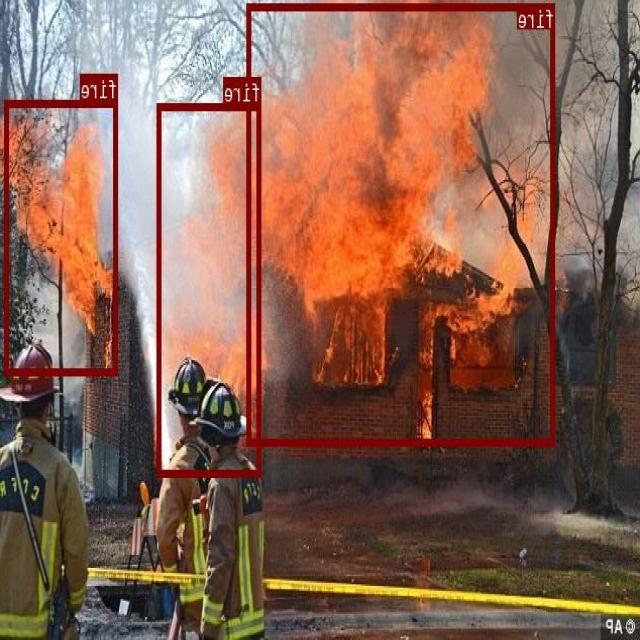fire: (248, 3, 556, 444), (158, 102, 262, 475), (5, 100, 119, 374)
